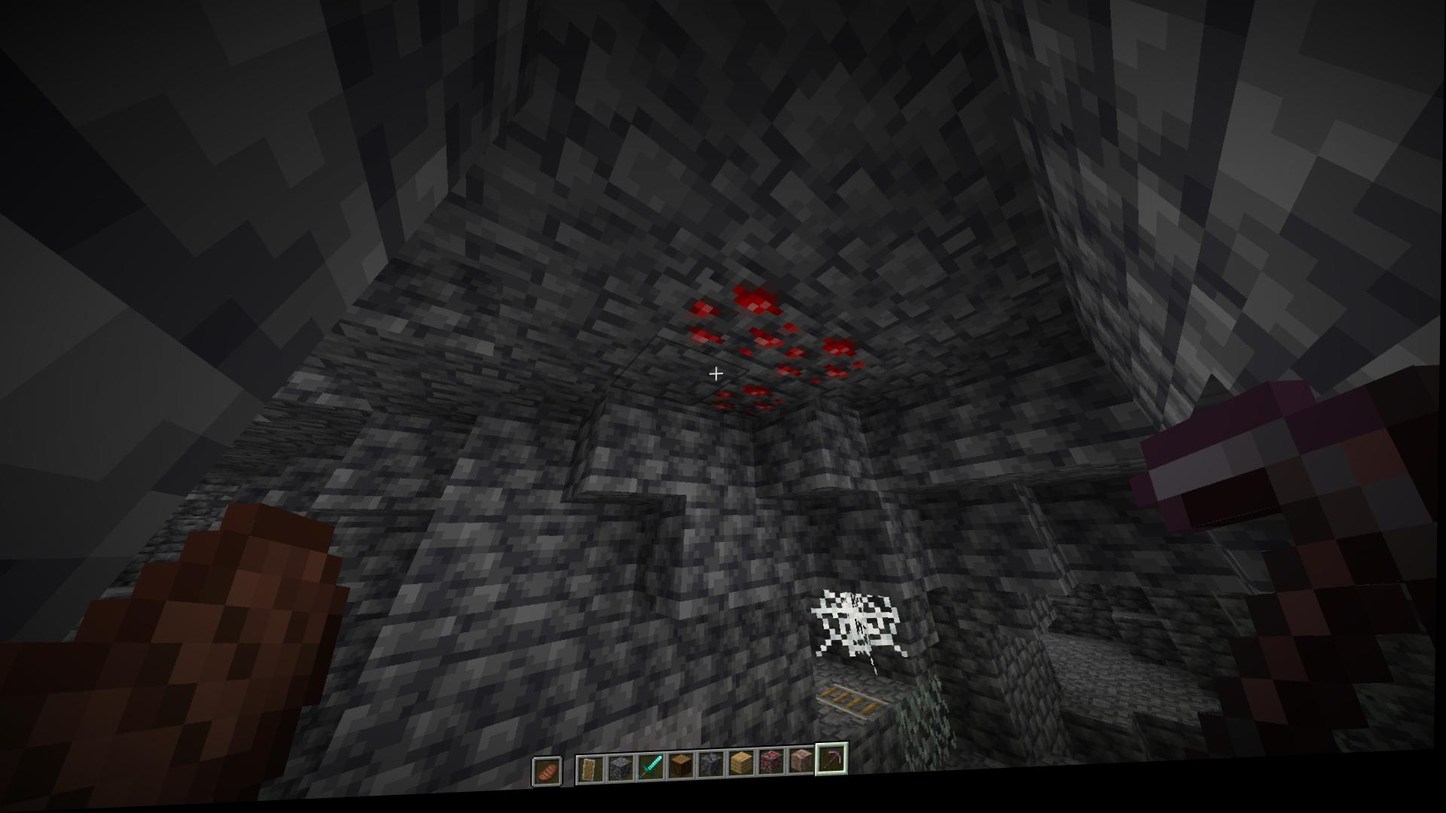redstone ore: (680, 280, 800, 371), (770, 335, 872, 403), (710, 382, 790, 437)
